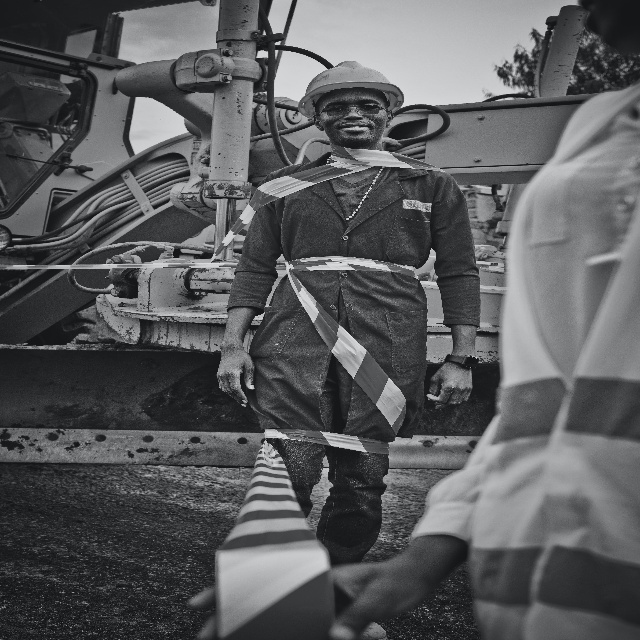Gafas: (322, 104, 386, 117)
Sin_guantes: (189, 557, 408, 640), (215, 346, 256, 408), (430, 360, 473, 411)
